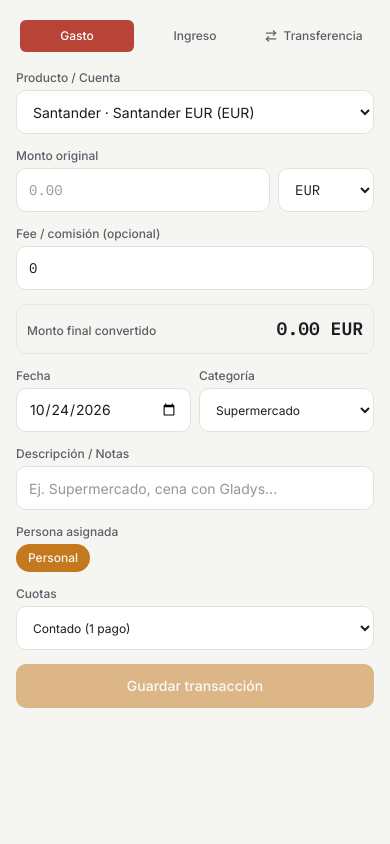
Test: TransactionForm › al seleccionar transferencia muestra campo de cuenta destino
Click the button "Transferencia": [313, 36] box [256, 20, 370, 52]
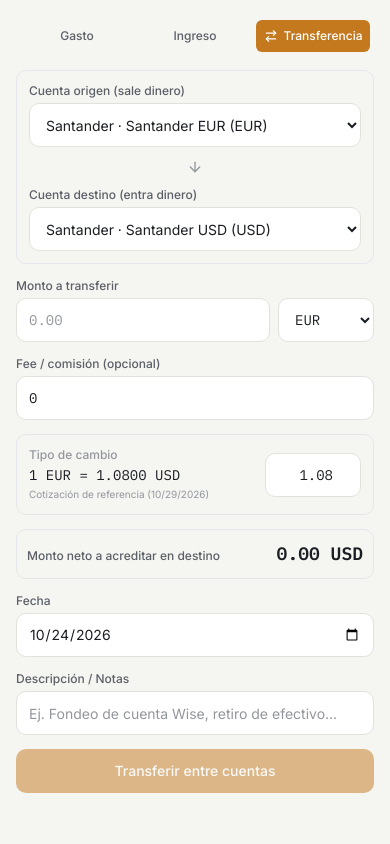
expect the text "Cuenta origen (sale dinero)" is shown: met, box [29, 83, 185, 98]
expect the text "Cuenta destino (entra dinero)" is shown: met, box [29, 187, 197, 202]
